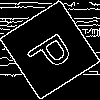P: (25, 25, 83, 78)
